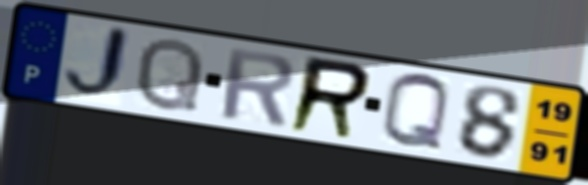8: (457, 84, 524, 162)
J: (60, 22, 134, 103)
Q: (378, 70, 453, 155), (131, 35, 207, 114)
R: (283, 53, 376, 143), (219, 44, 298, 129)
